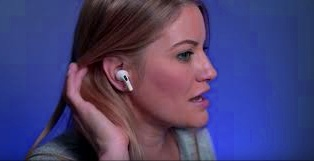earphone: (103, 55, 134, 92)
